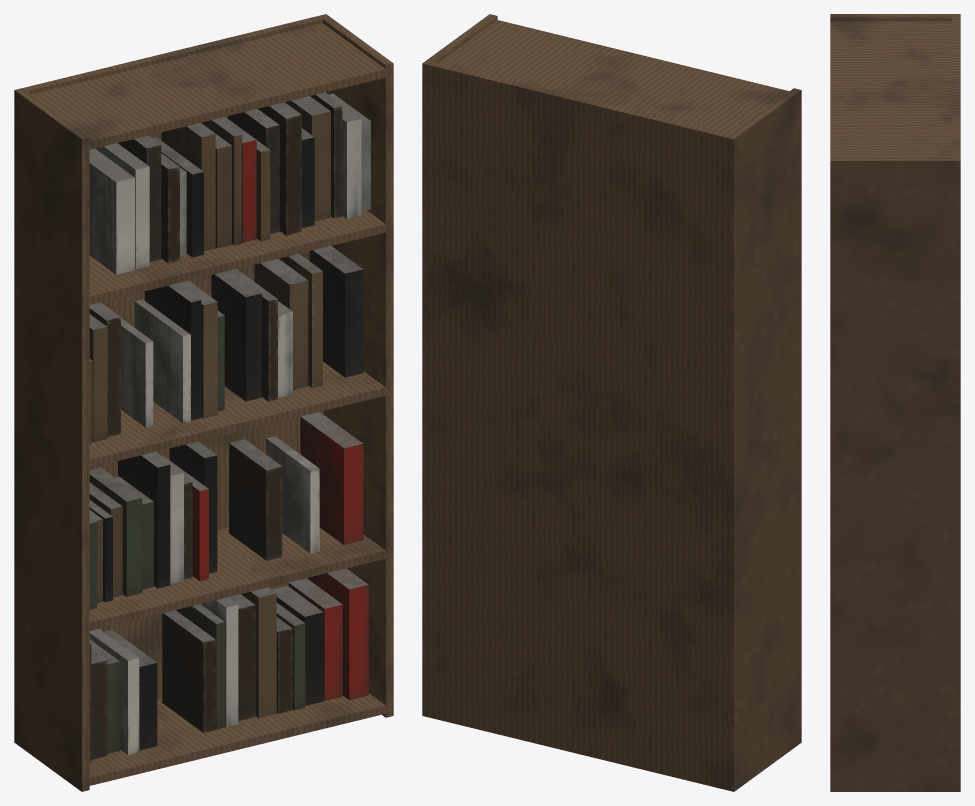
File: SM_Bookshelf_Wooden.fbx
The picture shows the model from 3 angles, left to right: view 1: azimuth 30°, elevation 25°; view 2: azimuth 150°, elevation 25°; view 3: azimuth 270°, elevation 25°; orthographic projection. The views are drawn at different scales.
Parts seen in each view (by area): view 1: SM_Bookshelf_Wooden; view 2: SM_Bookshelf_Wooden; view 3: SM_Bookshelf_Wooden.
Part boxes in pixels (<box>): SM_Bookshelf_Wooden: <box>14,14,393,791</box>; SM_Bookshelf_Wooden: <box>422,14,801,791</box>; SM_Bookshelf_Wooden: <box>830,14,960,791</box>.
Size of the model in its own units: 0.8 by 1.6 by 0.3.
Materials: 1 (1 with a texture image).
